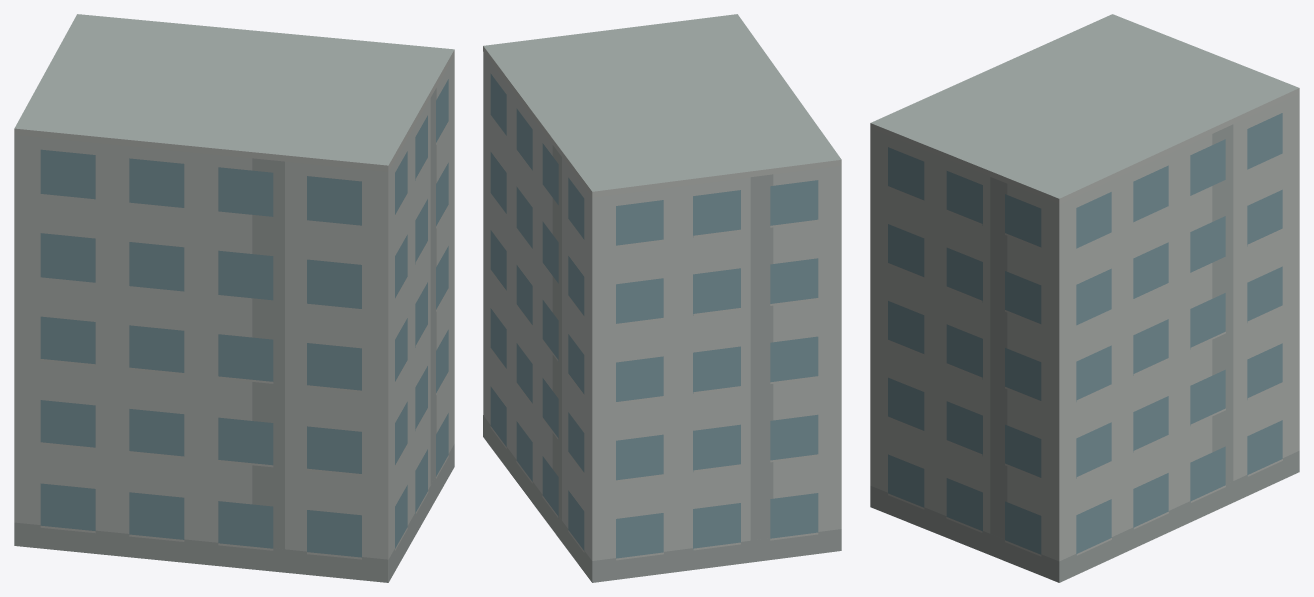
File: survey-upis-32852506.glb
3 renders of one model, left to right at view 1: azimuth 30°, elevation 25°; view 2: azimuth 150°, elevation 25°; view 3: azimuth 270°, elevation 25°, orthographic. The views are drawn at different scales.
Parts seen in each view (by area): view 1: survey-upis-32852506.tmp; view 2: survey-upis-32852506.tmp; view 3: survey-upis-32852506.tmp.
Part boxes in pixels (left/top/right/bottom): survey-upis-32852506.tmp: left=14, top=14, right=454, bottom=582; survey-upis-32852506.tmp: left=483, top=14, right=841, bottom=582; survey-upis-32852506.tmp: left=870, top=14, right=1299, bottom=582.
Bounding box in the file's own units: 16.93 × 16.4 × 16.61.
